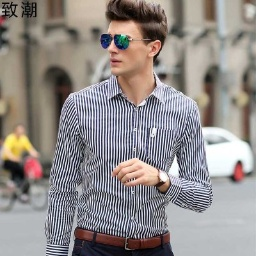face: (100, 1, 169, 79)
